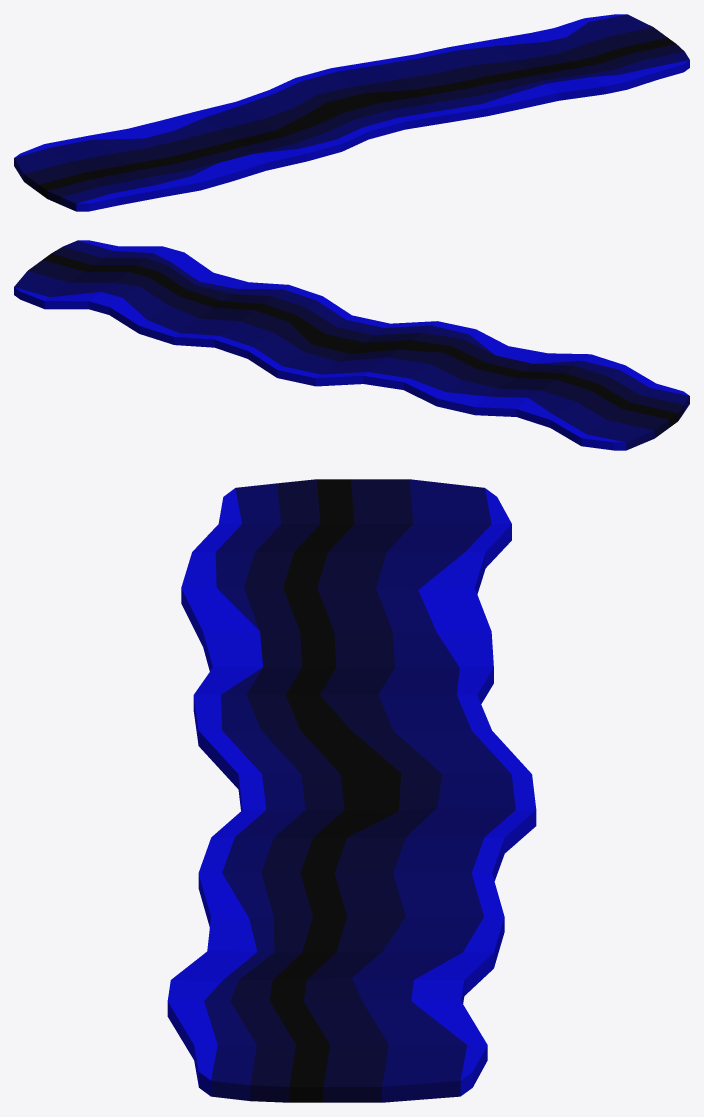
File: Bacon.fbx
3 views of the same model, one above another, from view 1: azimuth 30°, elevation 25°; view 2: azimuth 150°, elevation 25°; view 3: azimuth 270°, elevation 25° (orthographic). The views are drawn at different scales.
Parts seen in each view (by area): view 1: Bacon_Uncooked; view 2: Bacon_Uncooked; view 3: Bacon_Uncooked.
Part boxes in pixels (box(x1,y1,x2,y2)): Bacon_Uncooked: box(14, 14, 689, 211); Bacon_Uncooked: box(14, 240, 689, 450); Bacon_Uncooked: box(167, 479, 536, 1102).
Bounding box in the file's own units: 23.15 × 0.4254 × 5.94.
